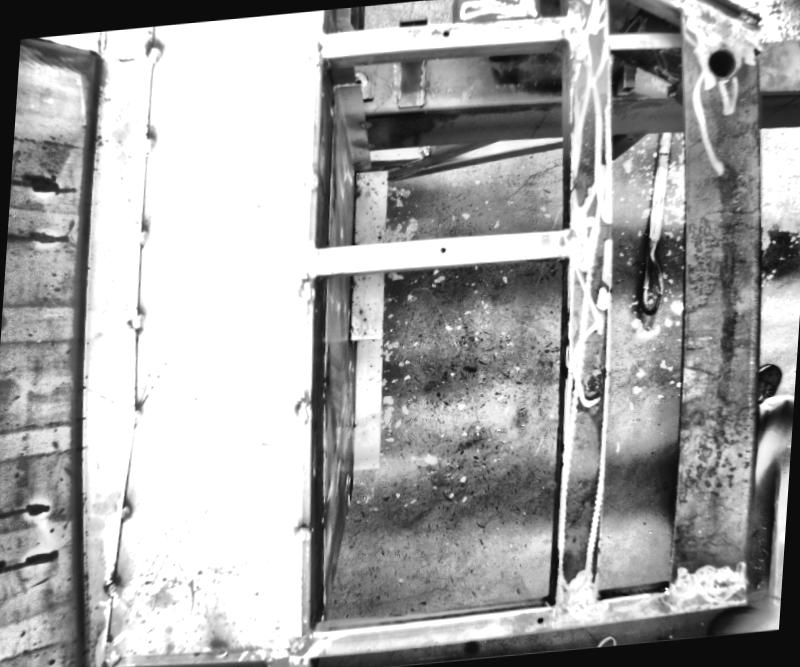hole: (701, 45, 739, 84), (438, 245, 446, 253), (537, 614, 544, 622), (442, 30, 450, 37)
